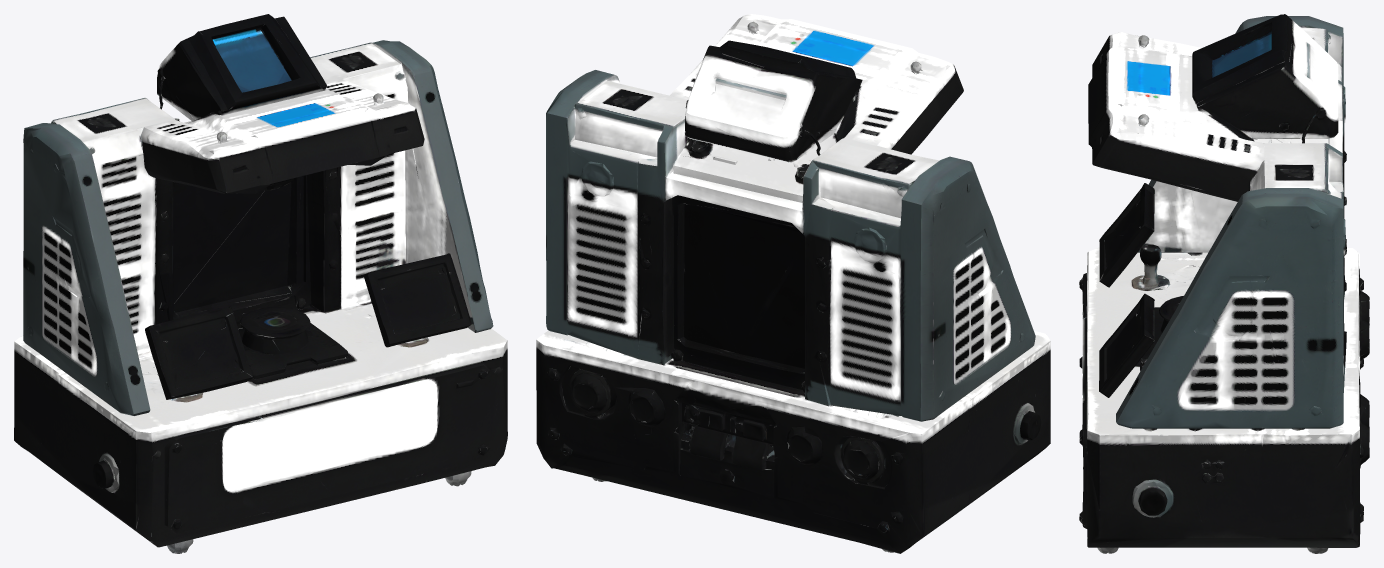
The model's file is Meshy_AI_Lab_Analyzer_source.glb.
The picture shows the model from 3 angles, left to right: view 1: azimuth 30°, elevation 25°; view 2: azimuth 150°, elevation 25°; view 3: azimuth 270°, elevation 25°; orthographic projection. The views are drawn at different scales.
Size of the model in its own units: 1.81 by 1.9 by 1.11.
1 material, 1 textured.
